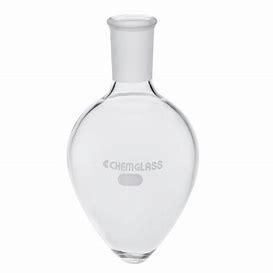Pear shaped flask: (46, 3, 207, 259)
